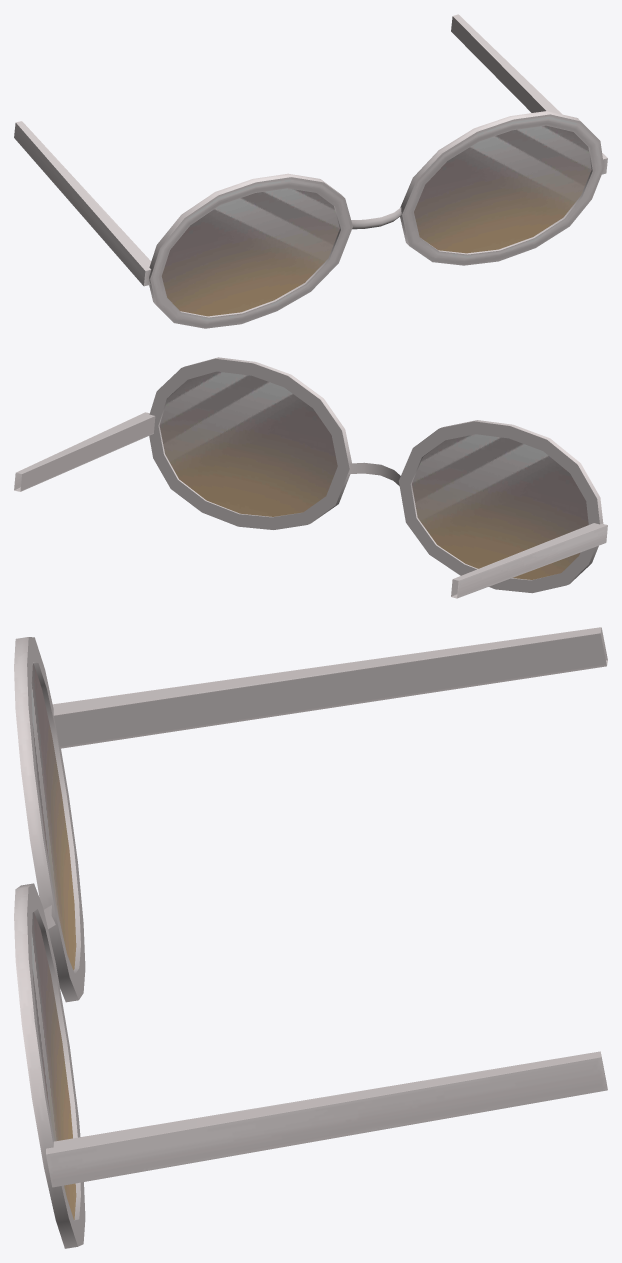
The model's file is acc_face0138.fbx.
3 views of the same model, one above another, from view 1: azimuth 30°, elevation 25°; view 2: azimuth 150°, elevation 25°; view 3: azimuth 270°, elevation 25° (orthographic). The views are drawn at different scales.
Parts seen in each view (by area): view 1: acc_face0138; view 2: acc_face0138; view 3: acc_face0138.
Boxes of the visible parts, x1,y1,x2,y2 form: acc_face0138: (14,14,607,328); acc_face0138: (14,357,607,598); acc_face0138: (14,627,607,1248).
Bounding box in the file's own units: 0.2067 × 0.0656 × 0.1155.
